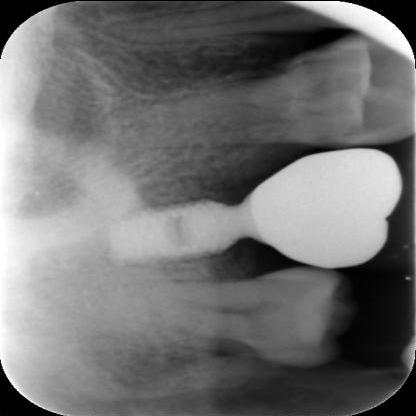Bicon: (106, 196, 228, 265)
